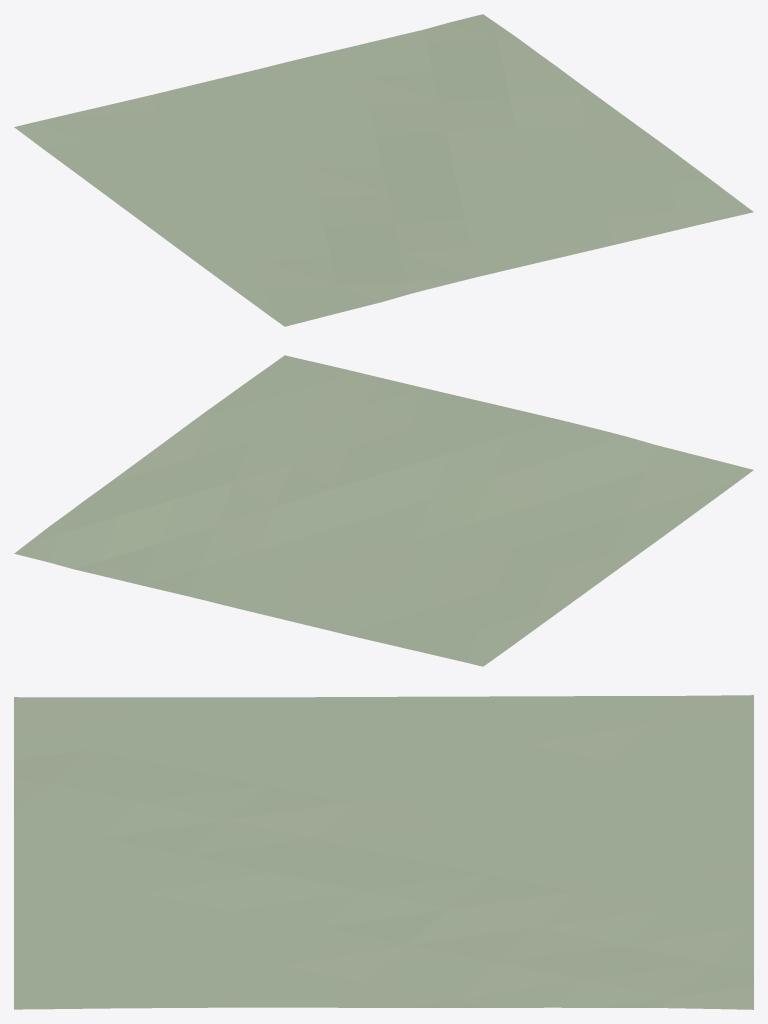
Rendered from SM_MPRR_Terrain_3_1.fbx.
The picture shows the model from 3 angles, top to bottom: view 1: azimuth 30°, elevation 25°; view 2: azimuth 150°, elevation 25°; view 3: azimuth 270°, elevation 25°; orthographic projection. The views are drawn at different scales.
Visible parts, largest first — view 1: SM_MPRR_Terrain_3_1; view 2: SM_MPRR_Terrain_3_1; view 3: SM_MPRR_Terrain_3_1.
Part boxes in pixels (bbox=[...]): SM_MPRR_Terrain_3_1: bbox=[14, 14, 753, 326]; SM_MPRR_Terrain_3_1: bbox=[14, 355, 753, 666]; SM_MPRR_Terrain_3_1: bbox=[14, 695, 753, 1009].
Bounding box in the file's own units: 15000 × 15000 × 117.
